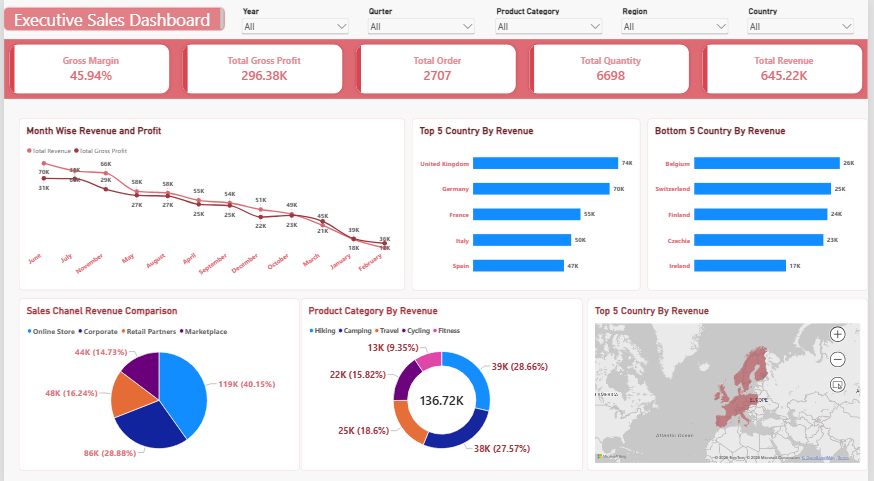

The dashboard page shown, as its layout file describes it:
{"tool":"powerbi","page":{"name":"Page 1","canvas":[1920,1080],"ordinal":0},"visuals":[{"type":"cardVisual","fields":{"Data":["All_Measures.Gross Margin","All_Measures.Total Gross Profit","All_Measures.Total Order","All_Measures.Total Quantity","All_Measures.Total Revenue"]},"box":[0,85.5,1920,133.3],"z":0},{"type":"textbox","box":[0,18.2,490,50],"z":1},{"type":"slicer","fields":{"Values":["Date_Table.Year"]},"box":[522.7,12.4,248,65.2],"z":2,"group":"g1"},{"type":"slicer","fields":{"Values":["Date_Table.Qurter"]},"box":[803.7,11.8,248,66.4],"z":3,"group":"g1"},{"type":"slicer","fields":{"Values":["SalesData.Product Category"]},"box":[1084.8,11.8,248,66.4],"z":4,"group":"g1"},{"type":"slicer","fields":{"Values":["SalesData.Region"]},"box":[1365.8,12.4,248,65.2],"z":5,"group":"g1"},{"type":"slicer","fields":{"Values":["SalesData.Country"]},"box":[1646.9,12.4,246.7,65.2],"z":6,"group":"g1"},{"type":"group","id":"g1","title":"Group 1","box":[522.7,11.8,1370.9,66.4],"z":7},{"type":"lineChart","title":"Month Wise Revenue and Profit","fields":{"Category":["Date_Table.Month_Name"],"Y":["All_Measures.Total Revenue"],"Y2":["All_Measures.Total Gross Profit"]},"box":[32.5,262.5,857.5,381.1],"z":8},{"type":"clusteredBarChart","title":"Top 5 Country By Revenue ","fields":{"Category":["SalesData.Country"],"Y":["All_Measures.Total Revenue"]},"box":[905,262.5,507.5,382.5],"z":9},{"type":"clusteredBarChart","title":"Bottom 5 Country By Revenue ","fields":{"Category":["SalesData.Country"],"Y":["All_Measures.Total Revenue"]},"box":[1430,262.5,490,382.5],"z":10},{"type":"pieChart","title":"Sales Chanel Revenue Comparison","fields":{"Category":["SalesData.Sales Channel"],"Y":["All_Measures.Total Revenue"]},"box":[32.5,662.5,623.3,382.5],"z":11},{"type":"donutChart","title":"Product Category By Revenue","fields":{"Category":["SalesData.Product Category"],"Y":["All_Measures.Total Gross Profit"]},"box":[661.2,662.5,626.2,382.5],"z":12},{"type":"filledMap","title":"Top 5 Country By Revenue ","fields":{"Category":["SalesData.Country"]},"box":[1296.7,662.5,623.3,382.5],"z":13}]}

Visuals, with their boxes in screenshot pixels (x1, y1, x2, y2), scaled from the page's 1920x1080 canvas onto the 874x481 screenshot:
cardVisual - All_Measures.Gross Margin x All_Measures.Total Gross Profit: crop(0, 38, 873, 97)
textbox: crop(0, 8, 223, 30)
slicer - Date_Table.Year: crop(238, 6, 351, 35)
slicer - Date_Table.Qurter: crop(366, 5, 479, 35)
slicer - SalesData.Product Category: crop(494, 5, 607, 35)
slicer - SalesData.Region: crop(622, 6, 735, 35)
slicer - SalesData.Country: crop(750, 6, 862, 35)
"Group 1" group: crop(238, 5, 862, 35)
"Month Wise Revenue and Profit" lineChart: crop(15, 117, 405, 287)
"Top 5 Country By Revenue " clusteredBarChart: crop(412, 117, 643, 287)
"Bottom 5 Country By Revenue " clusteredBarChart: crop(651, 117, 873, 287)
"Sales Chanel Revenue Comparison" pieChart: crop(15, 295, 299, 465)
"Product Category By Revenue" donutChart: crop(301, 295, 586, 465)
"Top 5 Country By Revenue " filledMap: crop(590, 295, 873, 465)
